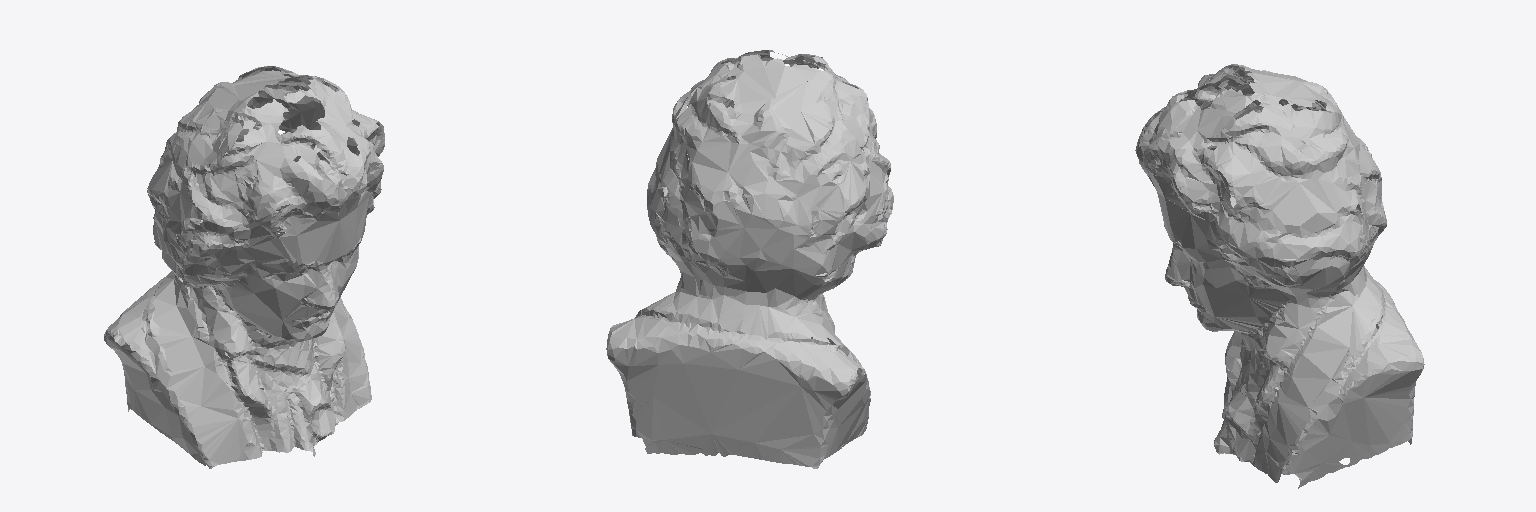
File: beeth.obj
3 renders of one model, left to right at view 1: azimuth 30°, elevation 25°; view 2: azimuth 150°, elevation 25°; view 3: azimuth 270°, elevation 25°, orthographic.
Bounding box in the file's own units: 114 × 171 × 121.